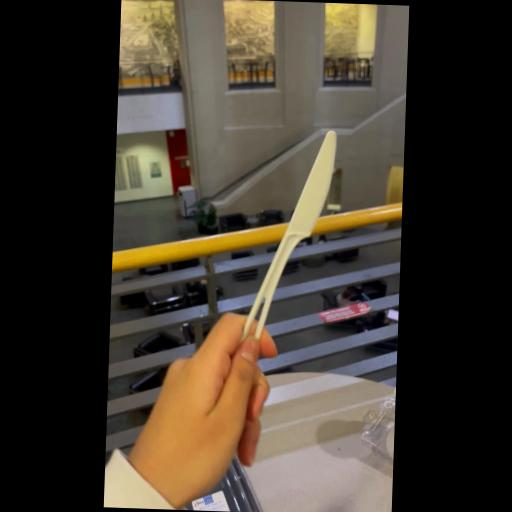utensil: (241, 127, 340, 349)
